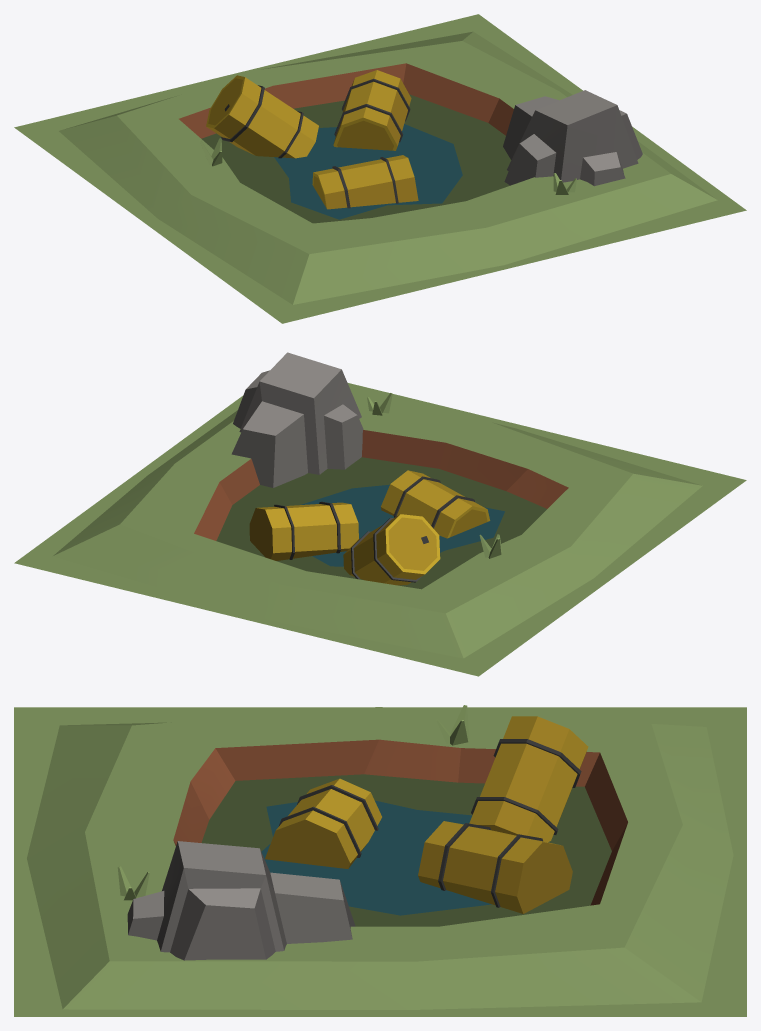
Rendered from SA_Env_Pond_03.gltf.
3 views of the same model, one above another, from view 1: azimuth 30°, elevation 25°; view 2: azimuth 150°, elevation 25°; view 3: azimuth 270°, elevation 25° (orthographic). The views are drawn at different scales.
Visible parts, largest first — view 1: SA_Env_Pond_03; view 2: SA_Env_Pond_03; view 3: SA_Env_Pond_03.
Part boxes in pixels (left/top/right/bottom): SA_Env_Pond_03: left=14, top=14, right=746, bottom=323; SA_Env_Pond_03: left=14, top=352, right=746, bottom=676; SA_Env_Pond_03: left=14, top=705, right=746, bottom=1016.
Size of the model in its own units: 15 by 3.45 by 15.
Materials: 1 (1 with a texture image).
